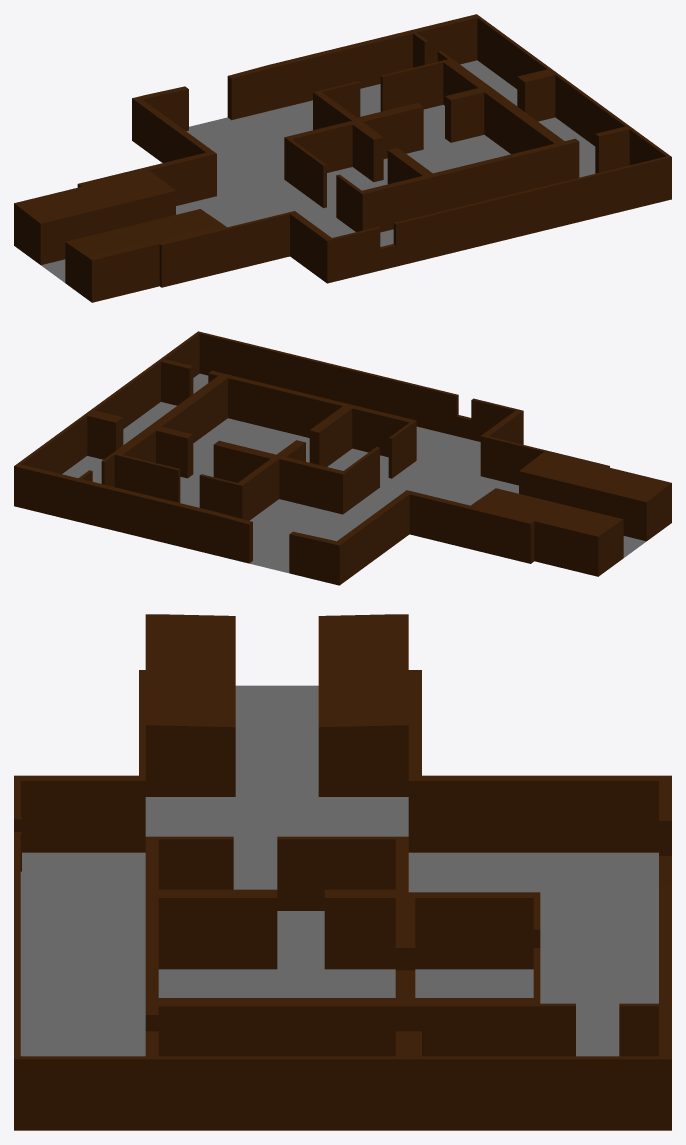
Rendered from Area2.fbx.
3 renders of one model, top to bottom at view 1: azimuth 30°, elevation 25°; view 2: azimuth 150°, elevation 25°; view 3: azimuth 270°, elevation 25°, orthographic. The views are drawn at different scales.
Parts seen in each view (by area): view 1: Plane.034; view 2: Plane.034; view 3: Plane.034.
Part boxes in pixels (x1,y1,x2,y2): Plane.034: [14, 14, 671, 302]; Plane.034: [14, 331, 671, 585]; Plane.034: [14, 614, 671, 1130].
Bounding box in the file's own units: 4000 × 300 × 2500.
